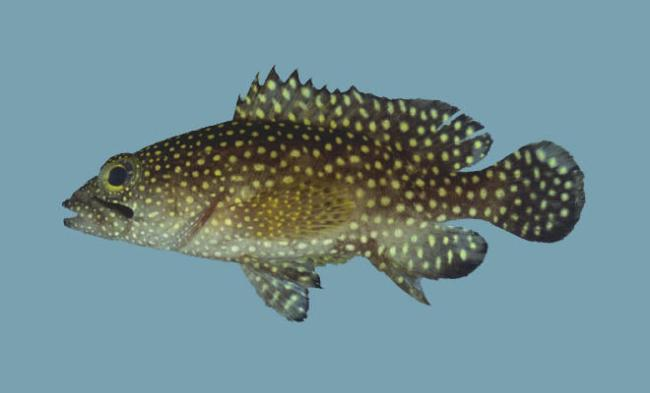fish: (61, 64, 586, 323)
